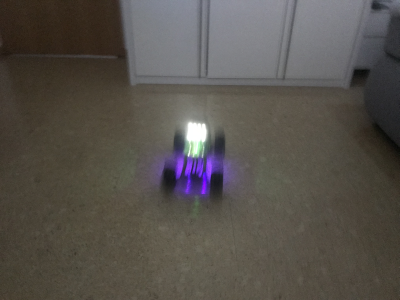remote control car: (159, 120, 227, 199)
